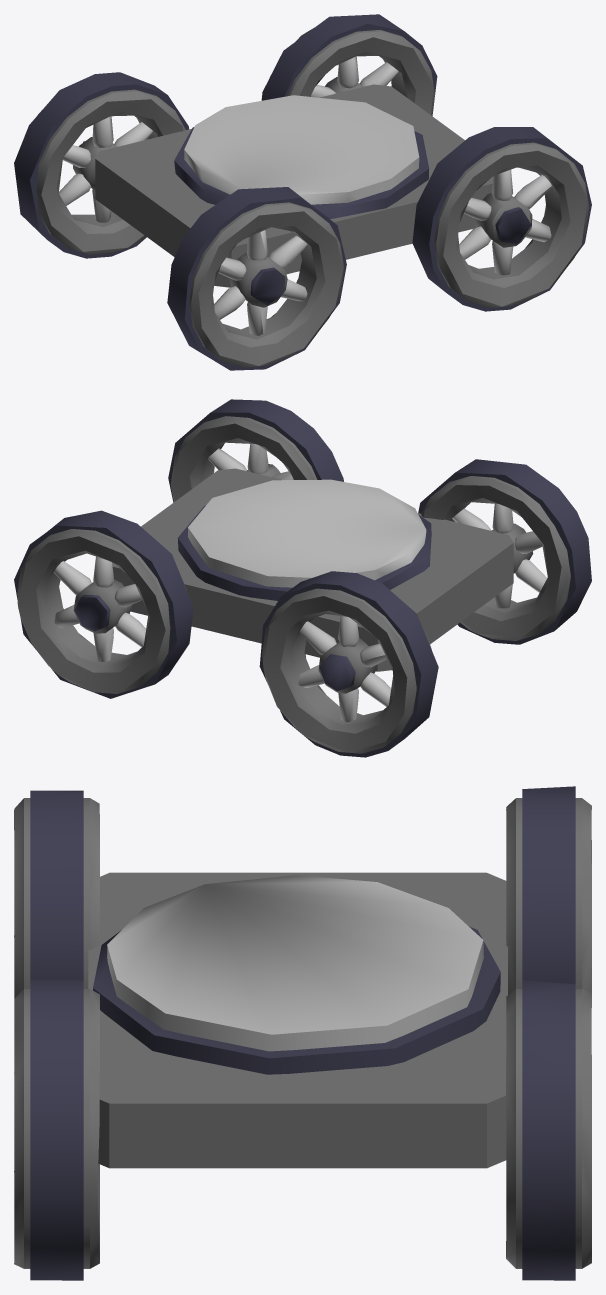
File: cannon-cart.glb
3 views of the same model, one above another, from view 1: azimuth 30°, elevation 25°; view 2: azimuth 150°, elevation 25°; view 3: azimuth 270°, elevation 25° (orthographic). The views are drawn at different scales.
Visible parts, largest first — view 1: Base, Wheel_Front_R, Wheel_Back_R, Wheel_Back_L, Wheel_Front_L; view 2: Base, Wheel_Back_L, Wheel_Front_L, Wheel_Back_R, Wheel_Front_R; view 3: Base, Wheel_Front_R, Wheel_Front_L, Wheel_Back_L, Wheel_Back_R.
Boxes of the visible parts, x1,y1,x2,y2 form: Base: (95,84,493,287); Wheel_Front_R: (412,127,591,311); Wheel_Back_R: (167,187,346,370); Wheel_Back_L: (14,72,188,258); Wheel_Front_L: (261,14,437,115); Base: (112,468,513,671); Wheel_Back_L: (259,571,438,757); Wheel_Front_L: (14,510,193,698); Wheel_Back_R: (418,459,591,644); Wheel_Front_R: (168,399,343,502); Base: (88,872,507,1168); Wheel_Front_R: (14,980,99,1280); Wheel_Front_L: (506,980,591,1280); Wheel_Back_L: (506,786,591,994); Wheel_Back_R: (14,790,99,997).
Size of the model in its own units: 1.17 by 0.4685 by 0.9002.
